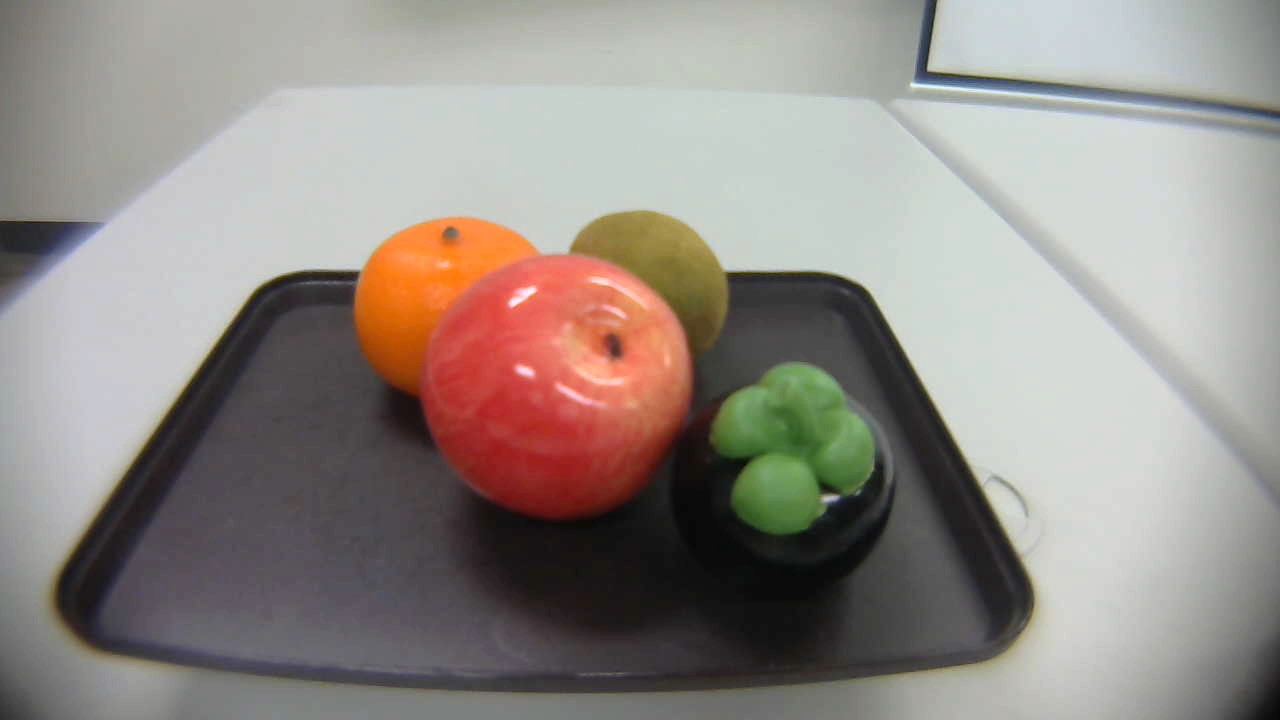kiwi fruit: (565, 211, 740, 356)
mangosteen: (674, 363, 904, 586)
orange: (352, 208, 548, 399)
red apple: (415, 249, 707, 534)
